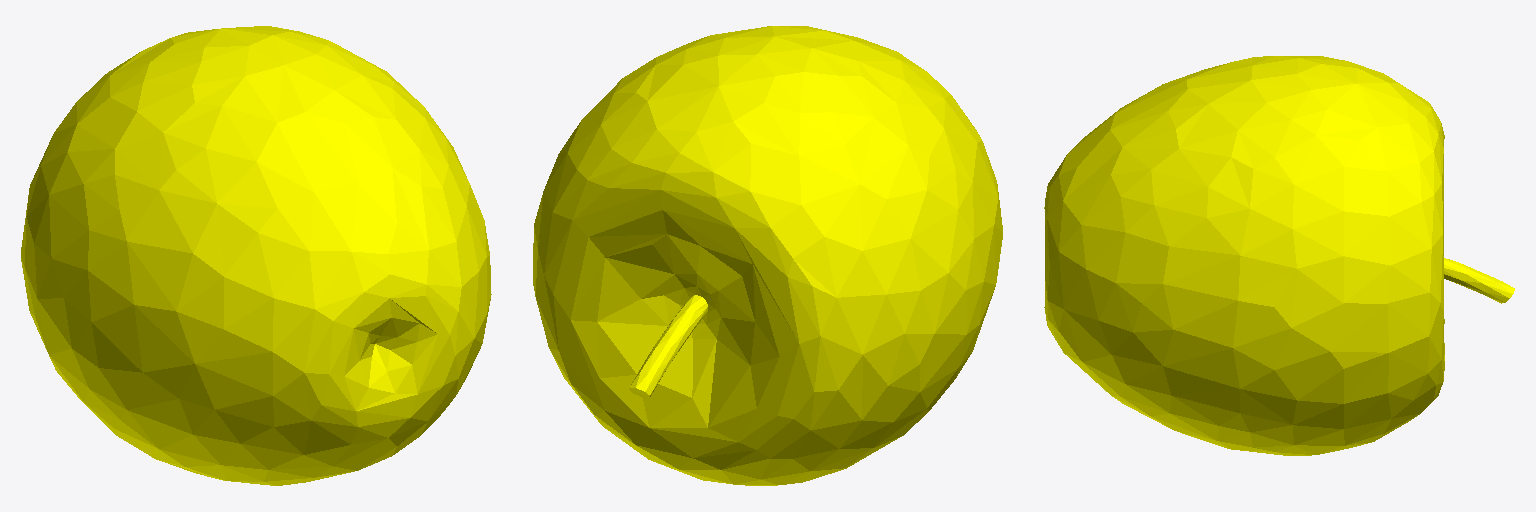
The robot description file, URDF, robot "apple":
<?xml version="1.0"?>
<robot name="apple">
<link name="apple_base_link">
  <inertial>
    <mass value="1.0"/>
    <origin xyz="0 0 0" rpy="0 0 0"/>
    <inertia ixx="0.01" ixy="0" ixz="0" iyy="0.01" iyz="0" izz="0.01"/>
  </inertial>

  <visual>
    <origin xyz="2.4 -0.7 1.8" rpy="0 0 0"/>
    <geometry>
      <mesh filename="package://meshes/apple.dae" scale="1 1 1"/>
    </geometry>
    <material name="material_name">
      <color rgba="1.0 1.0 0.0 1.0"/>
    </material>
  </visual>

  <collision>
    <origin xyz="2.4 -0.7 1.8" rpy="0 0 0"/>
    <geometry>
      <mesh filename="package://meshes/apple.dae" scale="1 1 1"/> 
      
      </geometry>
  </collision>
</link>
</robot>

--- What the picture shows (computed from the rendered views, not written in the file) ---
The picture shows the robot from 3 angles, left to right: view 1: azimuth 30°, elevation 25°; view 2: azimuth 150°, elevation 25°; view 3: azimuth 270°, elevation 25°; orthographic projection.
Robot: apple — 1 links, 0 joints (none); root link apple_base_link; default pose: all joints at 0.
Links seen in each view (by area): view 1: apple_base_link; view 2: apple_base_link; view 3: apple_base_link.
Link boxes in pixels (x1,y1,x2,y2): apple_base_link: (21, 26, 491, 485); apple_base_link: (533, 26, 1002, 485); apple_base_link: (1044, 56, 1514, 455).
Size in the robot's own frame: 0.0703 by 0.0824 by 0.0703 metres.
1 mesh visuals loaded from 1 distinct referenced files (1 Collada DAE).
